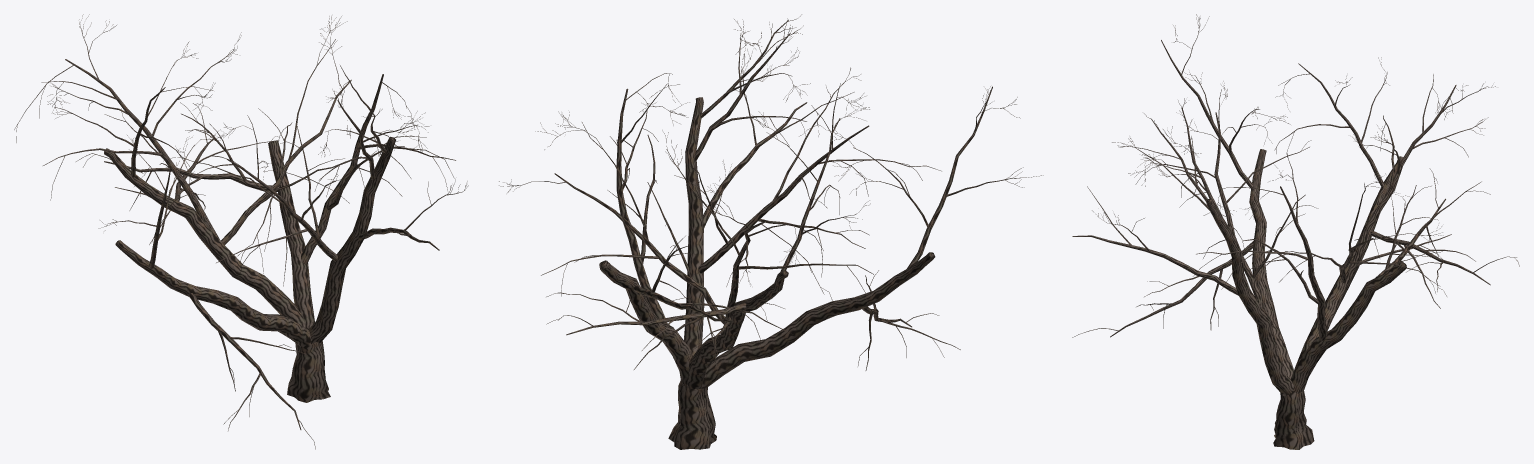
The model's file is dead_standing-b.lod0.glb.
3 renders of one model, left to right at view 1: azimuth 30°, elevation 25°; view 2: azimuth 150°, elevation 25°; view 3: azimuth 270°, elevation 25°, orthographic. The views are drawn at different scales.
Visible parts, largest first — view 1: bark; view 2: bark; view 3: bark.
Boxes of the visible parts, x1=… form: bark: x1=14, y1=14, x2=468, y2=449; bark: x1=499, y1=14, x2=1043, y2=449; bark: x1=1072, y1=14, x2=1519, y2=449.
Size of the model in its own units: 8.83 by 8 by 9.83.
Materials: 1 (1 with a texture image).
